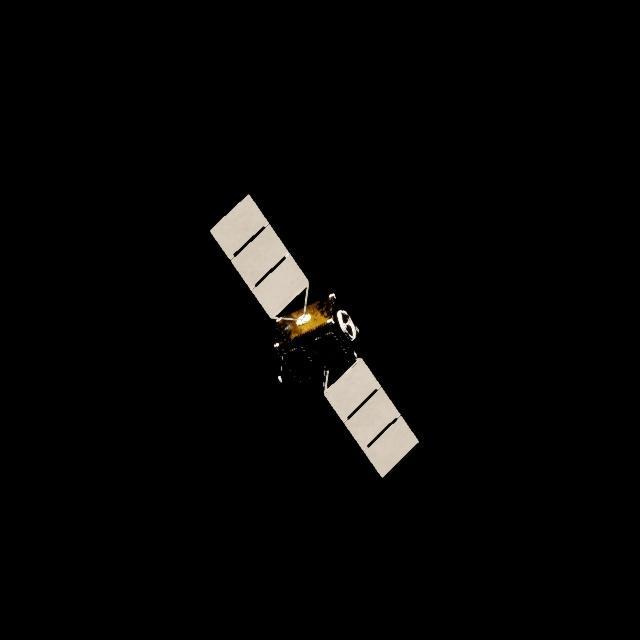medium_debris: (215, 200, 419, 479)
